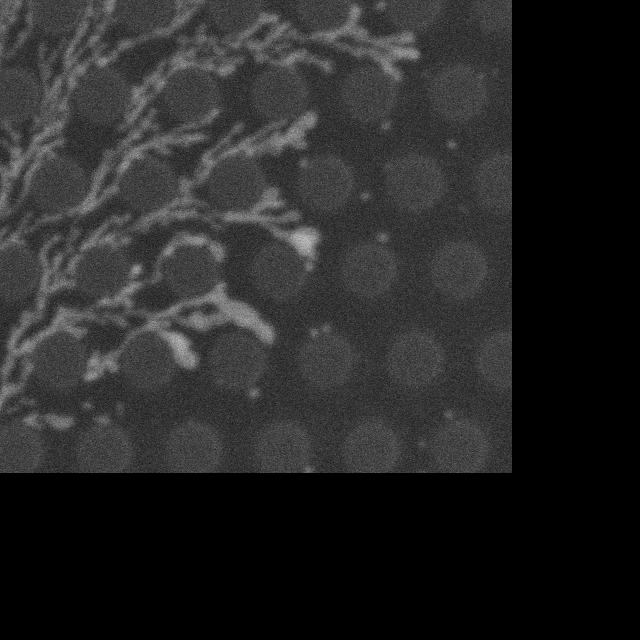Dendrite: (130, 5, 419, 116), (24, 78, 216, 238), (0, 238, 142, 423), (124, 112, 315, 237), (84, 284, 274, 380), (142, 188, 318, 261), (26, 0, 127, 125), (0, 123, 67, 229), (116, 0, 200, 55), (148, 231, 221, 280), (0, 0, 40, 74), (63, 214, 130, 258), (12, 413, 76, 434)
